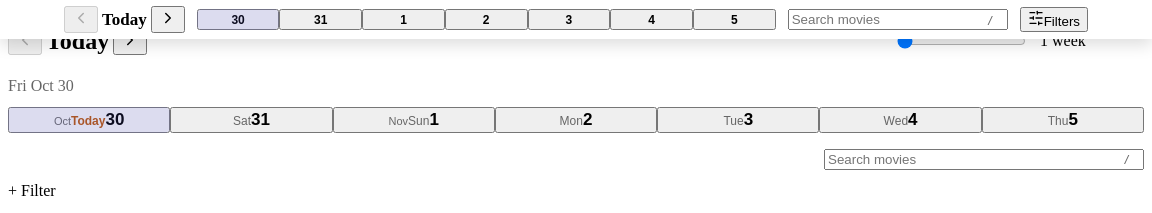
Scenario: steps the period and picks a day from the bar
Click the 1st button named "Next period" at (168, 20), box [151,6,185,33]
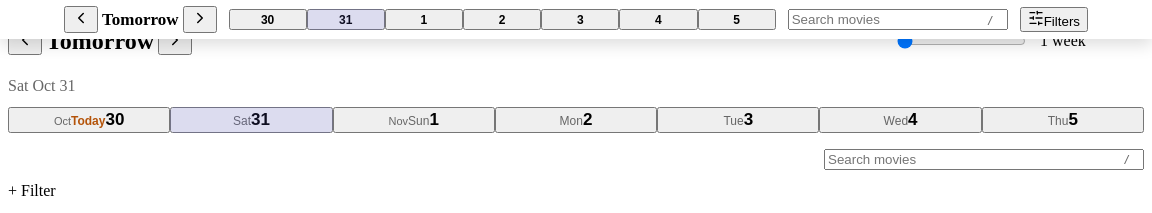
Check: the text "Tomorrow" is shown, box [102,10,178,30]
Check: the heading "Tomorrow" is shown, box [46,28,154,55]
Click the button named "Today, Friday October 30th" at (268, 20), box [228,9,307,30]
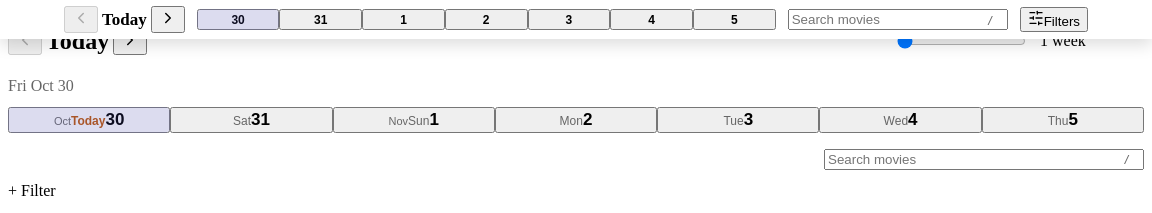
Check: the 1st text "Today" is shown, box [102,10,147,30]
